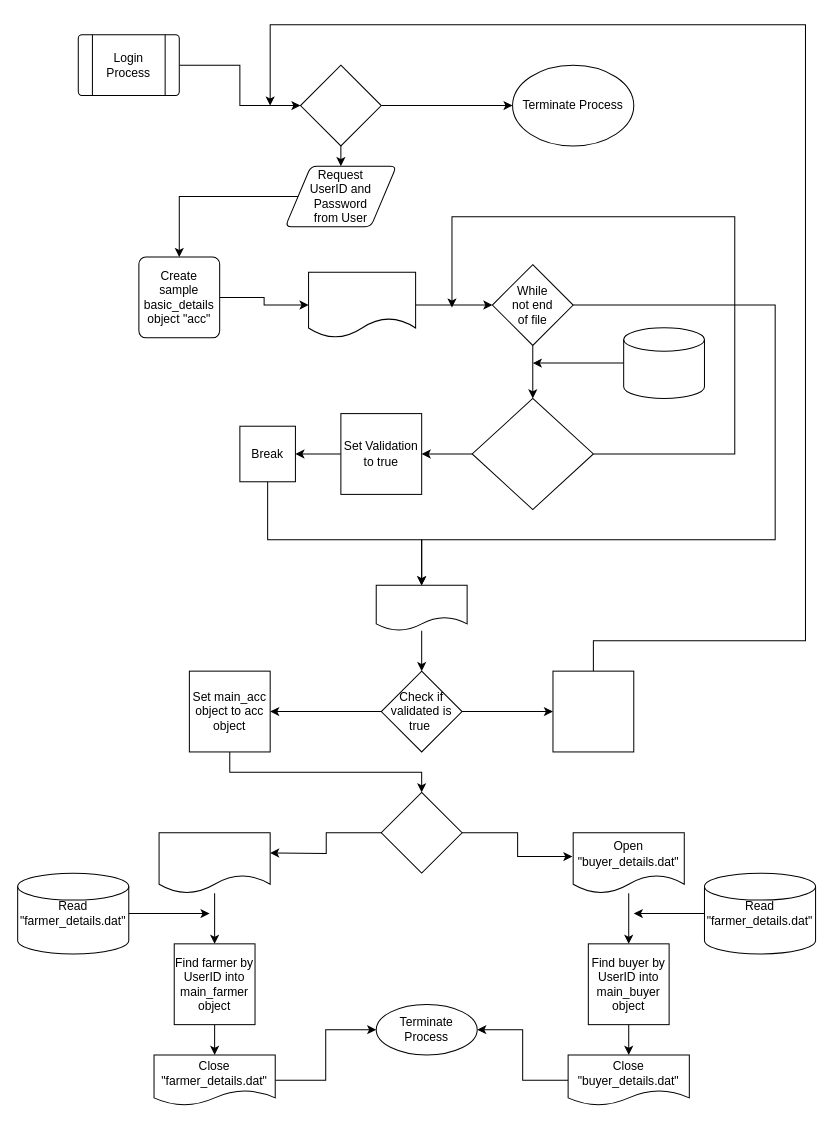
The diagram is 833 pixels wide and 1123 high, and some of its shapes have lost their labels. The shapes that lost their labels are listed below. From the top down, each one's box as (x1, y1, x2, y2) in pixels, then its label:
(299, 64, 381, 146): Is attempts = 3?
(308, 271, 416, 338): Open "acc.dat" file on pointer fp
(623, 327, 704, 398): Read Data from "acc.dat"
(471, 397, 593, 510): Check if input UserID matches with Existing ID
(375, 584, 467, 631): Close "acc.dat"
(552, 670, 634, 752): Increment attempts by 1
(380, 791, 462, 873): Check if farmer
(158, 832, 270, 893): Open "farmer_details.dat"
